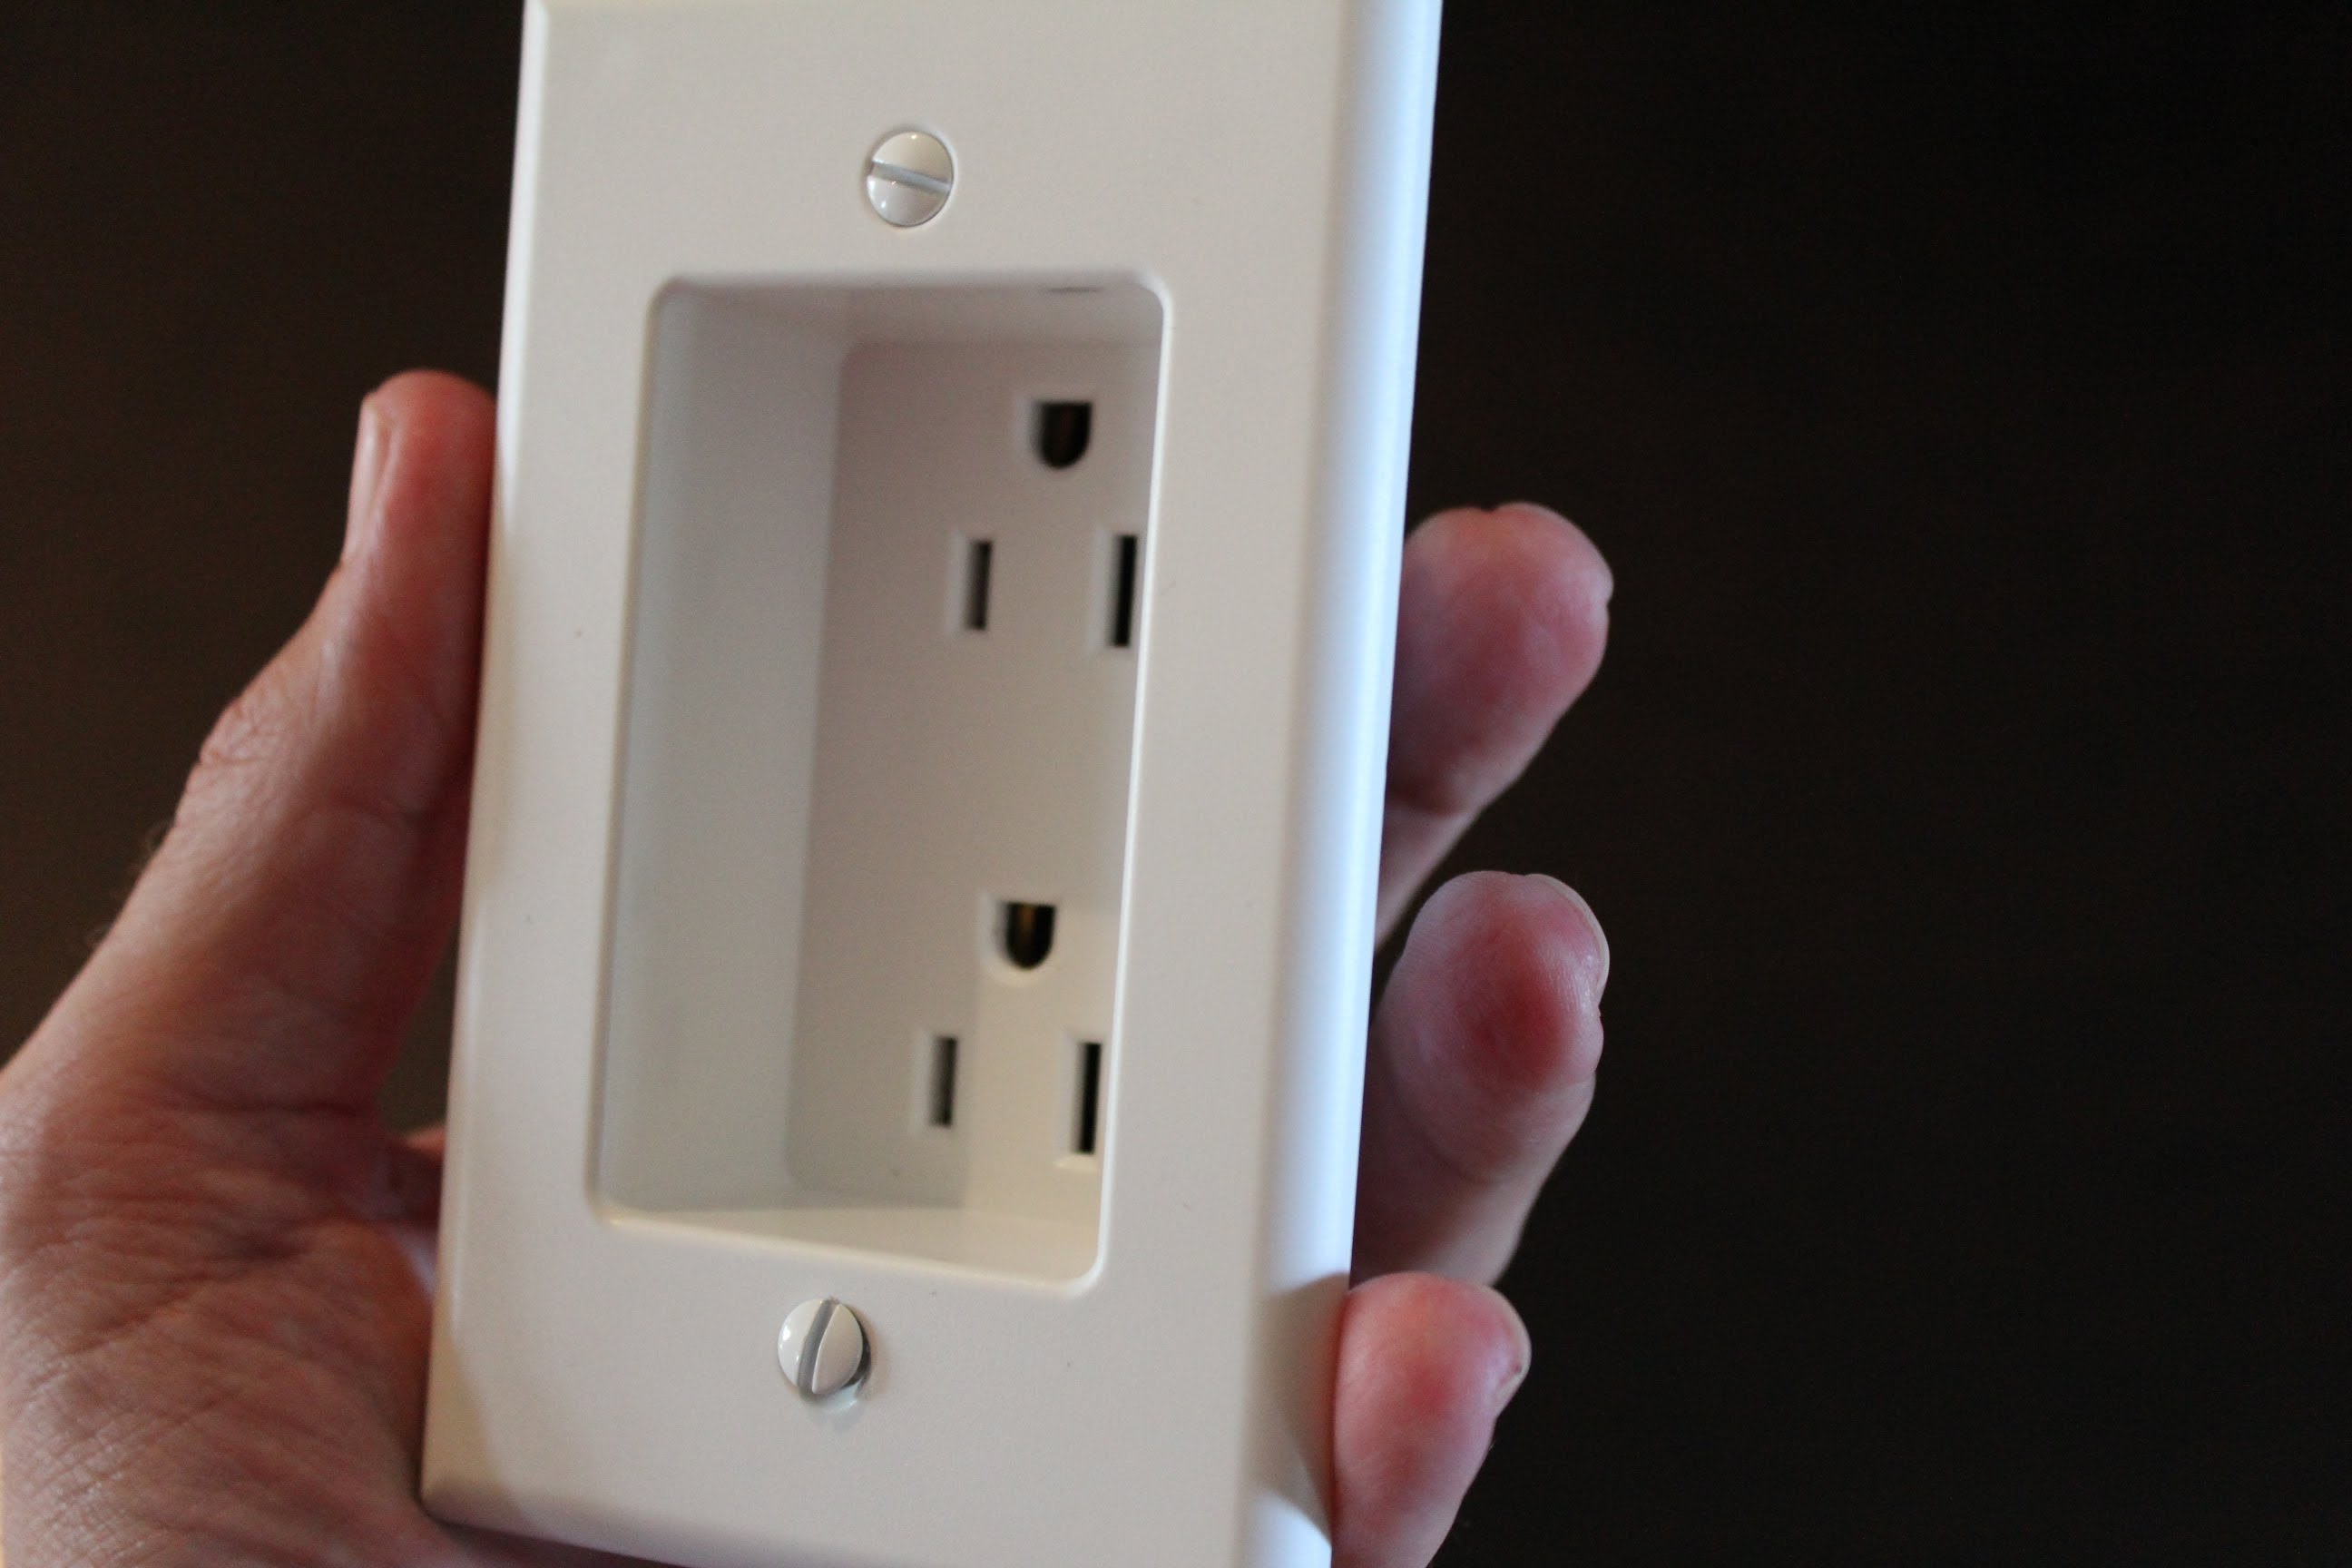outlet: (908, 870, 1122, 1167), (933, 374, 1148, 669)
